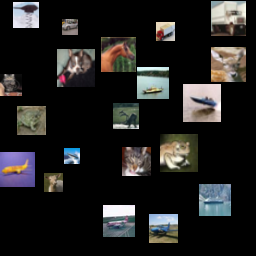airplane: (0, 152, 35, 187), (103, 205, 135, 237), (149, 214, 178, 243), (13, 2, 39, 28)
automobile: (62, 19, 78, 35)
cat: (122, 147, 151, 176), (0, 74, 22, 96)
deer: (211, 47, 246, 82), (113, 103, 139, 129), (44, 173, 63, 192)
dog: (57, 49, 95, 87)
frog: (160, 134, 198, 172), (17, 106, 46, 135)
ship: (183, 84, 221, 122), (137, 67, 169, 99), (199, 184, 231, 216), (64, 148, 80, 164)
